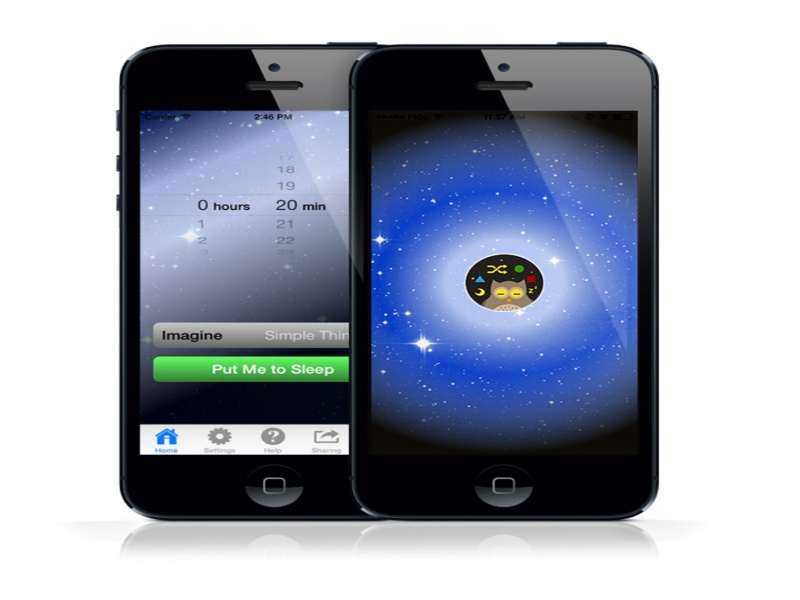cellphone: (351, 31, 667, 523), (114, 34, 346, 535)
